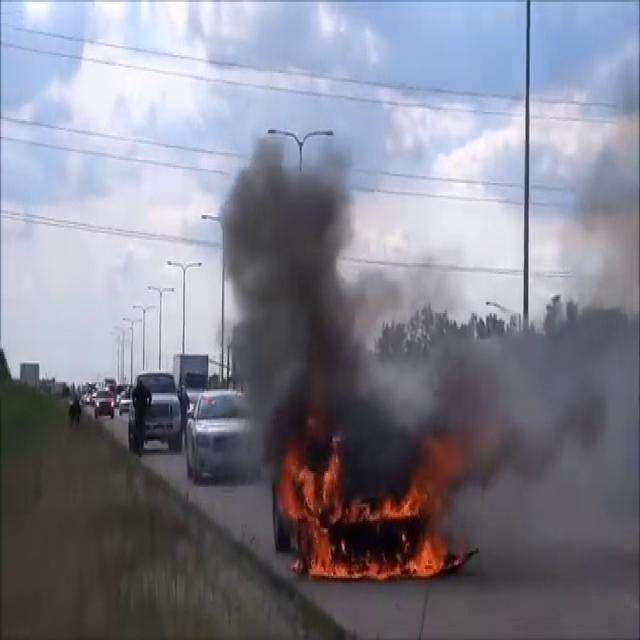Fire: (278, 438, 467, 586)
Smoke: (450, 234, 640, 584), (210, 124, 389, 462)
